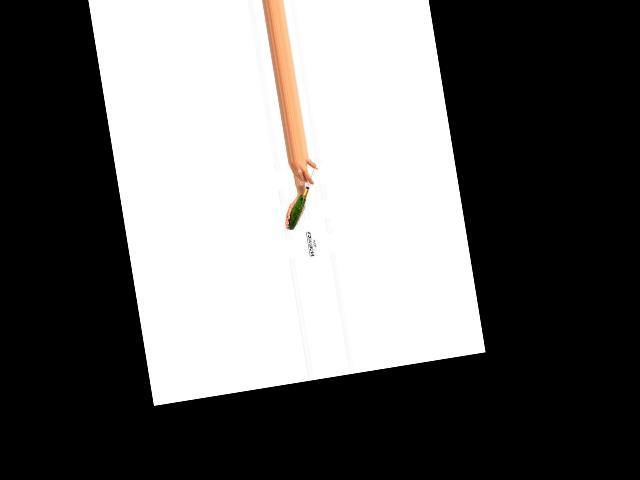cucumber: (283, 193, 310, 229)
